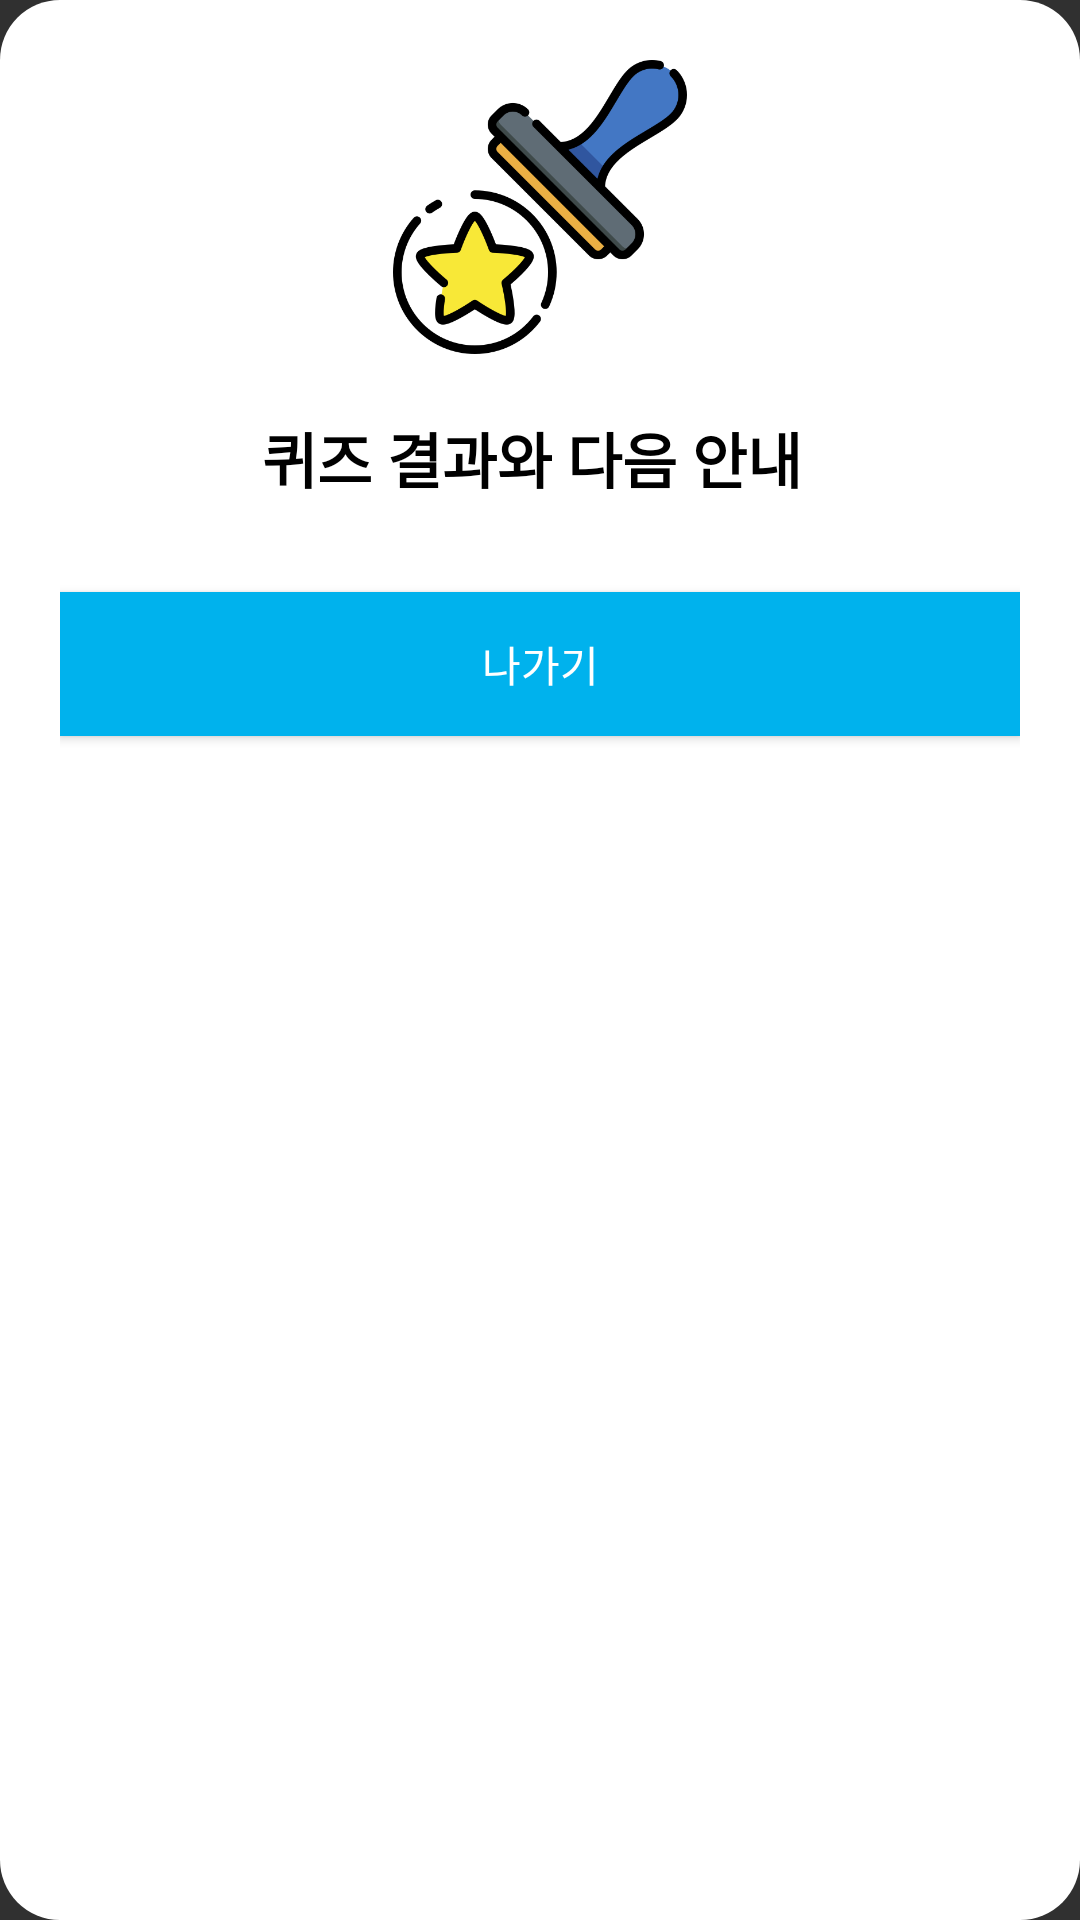

Where to tap for icons on this 1080 × 1920 app screen, as (x,y):
stamp: (540,207)
